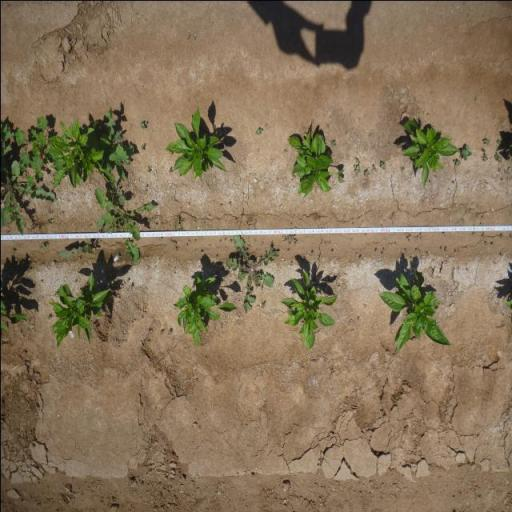plant: (374, 269, 452, 352), (50, 265, 119, 350), (278, 268, 336, 354), (172, 272, 234, 348), (288, 123, 347, 201), (170, 104, 228, 182), (402, 118, 454, 189), (48, 116, 94, 188)
weed: (225, 234, 277, 313), (0, 161, 53, 234), (94, 180, 154, 237), (94, 107, 135, 190), (16, 108, 48, 177), (59, 237, 99, 260), (458, 144, 471, 162), (494, 150, 502, 164), (138, 119, 148, 130), (362, 168, 370, 178), (452, 158, 460, 168), (254, 126, 262, 135), (353, 164, 359, 176), (379, 160, 386, 170), (40, 240, 48, 248), (482, 152, 488, 162), (44, 218, 51, 226), (140, 142, 146, 151), (146, 164, 152, 173), (371, 163, 377, 172), (158, 328, 164, 336), (330, 139, 336, 147), (354, 156, 360, 164), (483, 138, 489, 145), (167, 328, 172, 336), (396, 139, 400, 148), (260, 302, 265, 309), (168, 164, 172, 172), (10, 247, 15, 253), (176, 216, 179, 226), (459, 216, 464, 222), (252, 237, 257, 242), (292, 172, 296, 178), (400, 166, 404, 172), (47, 315, 50, 320), (282, 149, 287, 152)
